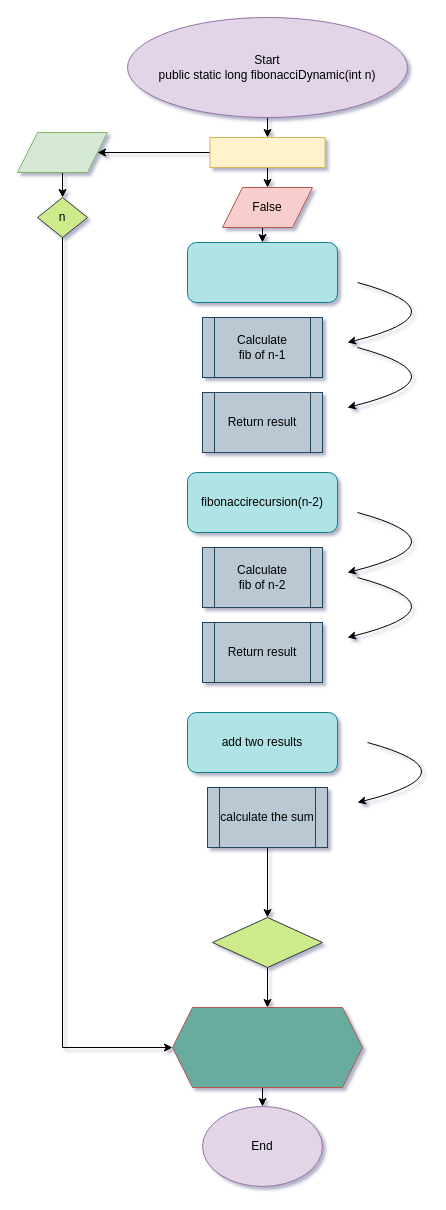
Image size: 446x1210. Some labels were removed from this diagram. The centre of each missing label's shape, as x and y in pixels:
"Check n <=1" goes at (x=267, y=152).
"fibonacciRecursion(n-1)" goes at (x=262, y=272).
"Return" goes at (x=267, y=1047).
"sum results" goes at (x=267, y=942).
"True" goes at (x=62, y=152).
